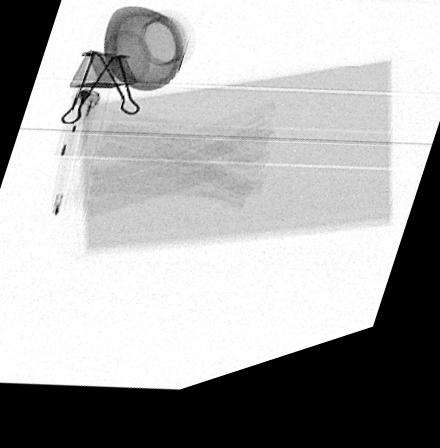Lighter: (53, 89, 102, 164)
